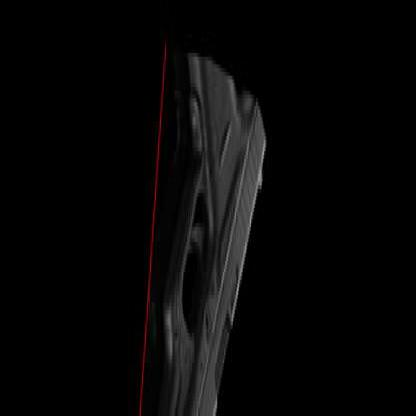pistol: (153, 34, 269, 405)
